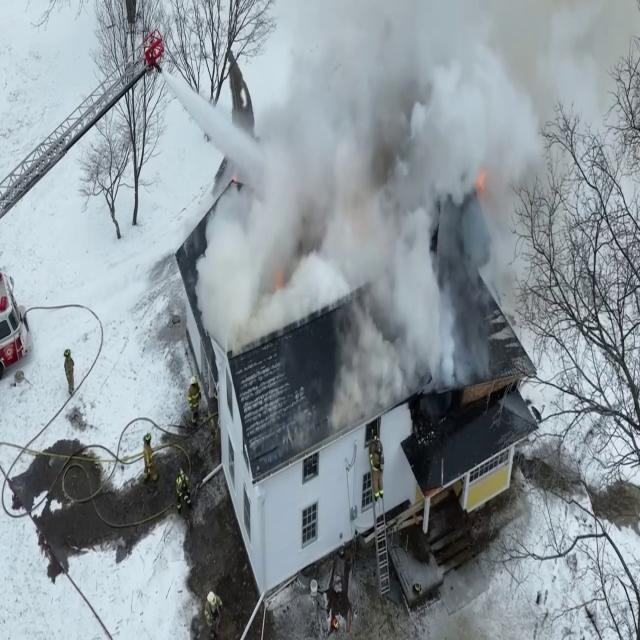Smoke: (194, 1, 574, 392)
